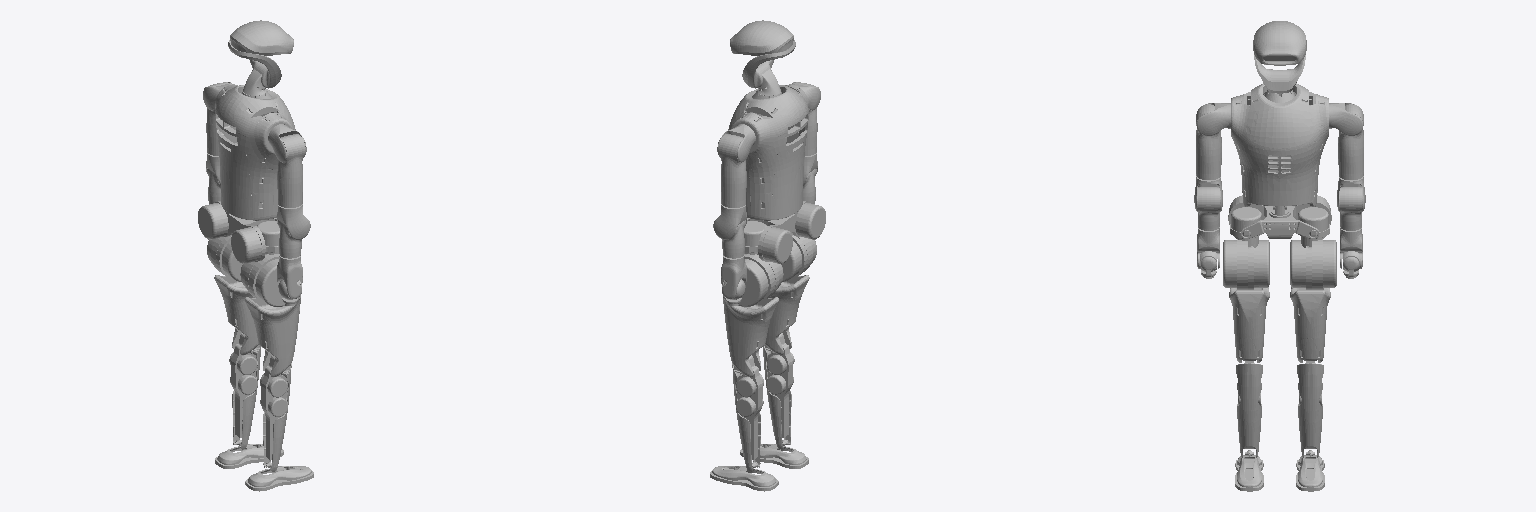
--- Facts derived from the render (not from the file) ---
3 views of the same robot in one strip: view 1: azimuth 30°, elevation 25°; view 2: azimuth 150°, elevation 25°; view 3: azimuth 270°, elevation 25° (orthographic).
Model l3_29dof_neck_fixed_leg_zero_offset_straight with 51 links and 50 joints (29 revolute, 21 fixed), rooted at pelvis, posed all joints at 0.
Visible links, largest first — view 1: torso_base_link, right_hip_pitch_link, neck_pitch_link, right_knee_link, left_knee_link, base_link, left_hip_pitch_link, right_shoulder_roll_link, right_ankle_roll_link, left_ankle_roll_link, right_elbow_yaw_link, right_arm_yaw_link (+3 smaller); view 2: torso_base_link, left_hip_pitch_link, neck_pitch_link, left_knee_link, right_knee_link, base_link, right_hip_pitch_link, left_shoulder_roll_link, left_ankle_roll_link, right_ankle_roll_link, left_elbow_yaw_link, left_arm_yaw_link (+3 smaller); view 3: torso_base_link, left_hip_pitch_link, right_hip_pitch_link, neck_pitch_link, right_knee_link, left_knee_link, base_link, left_shoulder_roll_link, right_shoulder_roll_link, left_hip_yaw_link, right_hip_yaw_link, left_elbow_pitch_link (+9 smaller).
Link boxes in pixels (x1=…): torso_base_link: x1=215, y1=84, x2=295, y2=220; right_hip_pitch_link: x1=245, y1=254, x2=302, y2=376; neck_pitch_link: x1=228, y1=20, x2=293, y2=88; right_knee_link: x1=260, y1=355, x2=291, y2=471; left_knee_link: x1=229, y1=333, x2=260, y2=449; base_link: x1=198, y1=201, x2=276, y2=263; left_hip_pitch_link: x1=207, y1=237, x2=258, y2=354; right_shoulder_roll_link: x1=277, y1=134, x2=305, y2=207; right_ankle_roll_link: x1=245, y1=466, x2=313, y2=491; left_ankle_roll_link: x1=215, y1=444, x2=283, y2=468; right_elbow_yaw_link: x1=277, y1=255, x2=302, y2=298; right_arm_yaw_link: x1=276, y1=204, x2=310, y2=239; torso_base_link: x1=728, y1=84, x2=808, y2=220; left_hip_pitch_link: x1=721, y1=254, x2=778, y2=376; neck_pitch_link: x1=730, y1=20, x2=795, y2=88; left_knee_link: x1=732, y1=355, x2=763, y2=471; right_knee_link: x1=763, y1=333, x2=794, y2=449; base_link: x1=747, y1=201, x2=825, y2=263; right_hip_pitch_link: x1=765, y1=237, x2=816, y2=354; left_shoulder_roll_link: x1=718, y1=134, x2=746, y2=207; left_ankle_roll_link: x1=710, y1=466, x2=778, y2=491; right_ankle_roll_link: x1=740, y1=444, x2=808, y2=468; left_elbow_yaw_link: x1=721, y1=255, x2=746, y2=298; left_arm_yaw_link: x1=713, y1=204, x2=746, y2=239; torso_base_link: x1=1231, y1=83, x2=1328, y2=206; left_hip_pitch_link: x1=1290, y1=239, x2=1336, y2=362; right_hip_pitch_link: x1=1223, y1=239, x2=1269, y2=362; neck_pitch_link: x1=1253, y1=21, x2=1306, y2=92; right_knee_link: x1=1236, y1=361, x2=1262, y2=457; left_knee_link: x1=1297, y1=361, x2=1323, y2=457; base_link: x1=1228, y1=195, x2=1331, y2=238; left_shoulder_roll_link: x1=1338, y1=104, x2=1363, y2=179; right_shoulder_roll_link: x1=1196, y1=104, x2=1221, y2=179; left_hip_yaw_link: x1=1290, y1=236, x2=1325, y2=289; right_hip_yaw_link: x1=1234, y1=236, x2=1269, y2=289; left_elbow_pitch_link: x1=1340, y1=187, x2=1361, y2=230.
Size in the robot's own frame: 0.2958 by 0.59 by 1.7 metres.
48 mesh visuals loaded from 49 distinct referenced files (48 binary STL); not drawn: 1 (reference not matched to a file when rendering).

robot.urdf — l3_29dof_neck_fixed_leg_zero_offset_straight:
<?xml version="1.0" encoding="utf-8"?>

<!-- This URDF was automatically created by SolidWorks to URDF Exporter! Originally created by Stephen Brawner ([email redacted]) 
     Commit Version: 1.6.0-4-g7f85cfe  Build Version: 1.6.7995.38578
     For more information, please see http://wiki.ros.org/sw_urdf_exporter -->
<robot
  name="l3_29dof_neck_fixed_leg_zero_offset_straight">
  <mujoco>
        <compiler 
        meshdir="meshes/" 
        balanceinertia="true" 
        discardvisual="false" />
  </mujoco>

  <!-- <link name="world"></link>
  <joint name="floating_base_joint" type="floating">
    <parent link="world"/>
    <child link="pelvis"/>
  </joint>  -->


 <link name="pelvis">
    <inertial>
      <origin xyz="0 0 0" rpy="0 0 0" />
      <mass value="0.01" />
      <inertia ixx="0.00001" ixy="-0.00001" ixz="-0.00001" iyy="0.00001" iyz="0.00001" izz="0.00001" />
    </inertial>
    <visual>
      <origin xyz="0 0 0" rpy="0 0 0" />
      <geometry>
        <box size="0.01 0.01 0.01"/>
      </geometry>
      <material name="">
        <color rgba="0.75294 0.75294 0.75294 1" />
      </material>
    </visual>

    <collision>
      <origin xyz="-0.105 0.115 -0.079" rpy="0 1.57 0"/>
      <geometry>
        <cylinder radius="0.06" length="0.05"/>
      </geometry>
    </collision>


    <collision>
      <origin xyz="-0.105 -0.115 -0.079" rpy="0 1.57 0"/>
      <geometry>
        <cylinder radius="0.06" length="0.05"/>
      </geometry>
    </collision>

    <!-- <collision>
      <origin
        xyz="0.05 0. -0.06"
        rpy="0 0 0"/>
      <geometry>
        <box size="0.02 0.14 0.04"/>
      </geometry>
    </collision> -->

    <collision>
      <origin
        xyz="0.07 0. -0.06"
        rpy="0 0 0"/>
      <!-- <geometry>
        <box size="0.02 0.20 0.04"/>
      </geometry> -->
      <geometry>
        <box size="0.01 0.26 0.04"/>
      </geometry>
    </collision>
  </link>

  <link
    name="base_link">
    <inertial>
      <origin
        xyz="-0.12443 4.6517E-05 -0.0072396"
        rpy="0 0 0" />
      <mass
        value="4.6837" />
      <inertia
        ixx="0.0662"
        ixy="0"
        ixz="-0.0006"
        iyy="0.0139"
        iyz="0"
        izz="0.071" />
    </inertial>
    <visual>
      <origin
        xyz="0 0 0"
        rpy="0 0 0" />
      <geometry>
        <mesh
          filename="meshes/base_link.STL" />
      </geometry>
      <material
        name="">
        <color
          rgba="0.75294 0.75294 0.75294 1" />
      </material>
    </visual>
    <!-- <collision>
      <origin
        xyz="0 0 0"
        rpy="0 0 0" />
      <geometry>
        <mesh
          filename="meshes/base_link.STL" />
      </geometry>
    </collision> -->
  </link>

  <joint name="pelvis_to_base_link" type="fixed">
    <origin xyz="0.04724 0 -0.0707" rpy="0 0 0" />
    <parent link="pelvis"/>
    <child link="base_link"/>
  </joint> 

 <!--left leg-->
  <link
    name="left_hip_roll_link">
    <inertial>
      <origin
        xyz="-0.00064601 2.7e-05 0.00565143"
        rpy="0 0 0" />
      <mass
        value="1.73" />
      <inertia
        ixx="0.0025037"
        ixy="0"
        ixz="0"
        iyy="0.00256083"
        iyz="0"
        izz="0.000029228131" />
    </inertial>
    <visual>
      <origin
        xyz="0 0 0"
        rpy="0 0 0" />
      <geometry>
        <mesh
          filename="meshes/left_hip_roll_link.STL" />
      </geometry>
      <material
        name="">
        <color
          rgba="0.75294 0.75294 0.75294 1" />
      </material>
    </visual>
    <collision>
      <origin
        xyz="0 0 0"
        rpy="0 0 0" />
      <geometry>
        <mesh
          filename="meshes/left_hip_roll_link.STL" />
      </geometry>
    </collision>
  </link>
  <joint
    name="left_hip_roll_joint"
    type="revolute">
    <origin
      xyz="-0.04724 0.115 -0.0083"
      rpy="0 0 0" />
    <parent
      link="base_link" />
    <child
      link="left_hip_roll_link" />
    <axis
      xyz="1 0 0" />
    <limit
      lower="-0.17"
      upper="1.21"
      effort="255"
      velocity="7.28" />
  </joint>
  <link
    name="left_hip_yaw_link">
    <inertial>
      <origin
        xyz="-0.000331 -0.037613 -0.139711"
        rpy="0 0 0" />
      <mass
        value="4.12" />
      <inertia
        ixx="0.01102885"
        ixy="-0.0001"
        ixz="-3.948E-07"
        iyy="0.01659953"
        iyz="-0.0007"
        izz="0.00922664" />
    </inertial>
    <visual>
      <origin
        xyz="0 0 0"
        rpy="0 0 0" />
      <geometry>
        <mesh
          filename="meshes/left_hip_yaw_link.STL" />
      </geometry>
      <material
        name="">
        <color
          rgba="0.75294 0.75294 0.75294 1" />
      </material>
    </visual>
    <!-- <collision>
      <origin
        xyz="0 0 0"
        rpy="0 0 0" />
      <geometry>
        <mesh
          filename="meshes/left_hip_yaw_link.STL" />
      </geometry>
    </collision> -->
    <collision>
      <origin xyz="0.0 0. -0.144" rpy="1.57 0 0"/>
      <geometry>
        <cylinder radius="0.09" length="0.16"/>
      </geometry>
    </collision>
  </link>
  <joint
    name="left_hip_yaw_joint"
    type="revolute">
    <origin
      xyz="0 0 0"
      rpy="0 0 0" />
    <parent
      link="left_hip_roll_link" />
    <child
      link="left_hip_yaw_link" />
    <axis
      xyz="0 0 1" />
    <limit
      lower="-0.52"
      upper="1.03"
      effort="100"
      velocity="13.26" />
  </joint>
  <link
    name="left_hip_pitch_link">
    <inertial>
      <origin
        xyz="0.00124255 0.03682619 -0.04354149"
        rpy="0 0 0" />
      <mass
        value="5.28" />
      <inertia
        ixx="0.06033474"
        ixy="0.0005"
        ixz="0.0032"
        iyy="0.06489403"
        iyz="-0.0083"
        izz="0.01283269" />
    </inertial>
    <visual>
      <origin
        xyz="0 0 0"
        rpy="0 0 0" />
      <geometry>
        <mesh
          filename="meshes/left_hip_pitch_link.STL" />
      </geometry>
      <material
        name="">
        <color
          rgba="0.75294 0.75294 0.75294 1" />
      </material>
    </visual>
    <!-- <collision>
      <origin
        xyz="0 0 0"
        rpy="0 0 0" />
      <geometry>
        <mesh
          filename="meshes/left_hip_pitch_link.STL" />
      </geometry>
    </collision> -->
    <collision>
      <origin
        xyz="0.02 0. -0.20"
        rpy="0 0 0"/>
      <geometry>
        <box size="0.1 0.06 0.15"/>
      </geometry>
    </collision>
  </link>
  <!-- <joint
    name="left_hip_pitch_joint"
    type="revolute">
    <origin
      xyz="0 0 -0.144"
      rpy="0 -0.5236 0" />
    <parent
      link="left_hip_yaw_link" />
    <child
      link="left_hip_pitch_link" />
    <axis
      xyz="0 1 0" />

    <limit
      lower="-1.48"
      upper="2.25"
      effort="350.0"
      velocity="20.0" />


  </joint> -->
  <joint
    name="left_hip_pitch_joint"
    type="revolute">
    <origin
      xyz="0 0 -0.144"
      rpy="0 0 0" />
    <parent
      link="left_hip_yaw_link" />
    <child
      link="left_hip_pitch_link" />
    <axis
      xyz="0 1 0" />
    <limit
      lower="-2.0036"
      upper="1.7464"
      effort="350.0"
      velocity="20.0" />
  </joint>

  <link
    name="left_knee_link">
    <inertial>
      <origin
        xyz="0.01253496 0.00011441 -0.11698312"
        rpy="0 0 0" />
      <mass
        value="2.41" />
      <inertia
        ixx="0.02084403"
        ixy="-3.7298E-08"
        ixz="-0.0015"
        iyy="0.0210412"
        iyz="-0.0003"
        izz="0.00243826" />
    </inertial>
    <visual>
      <origin
        xyz="0 0 0"
        rpy="0 0 0" />
      <geometry>
        <mesh
          filename="meshes/left_knee_link.STL" />
      </geometry>
      <material
        name="">
        <color
          rgba="0.75294 0.75294 0.75294 1" />
      </material>
    </visual>
    <collision>
      <origin
        xyz="0 0 0"
        rpy="0 0 0" />
      <geometry>
        <mesh
          filename="meshes/left_knee_link.STL" />
      </geometry>
    </collision>
  </link>
  <!-- <joint
    name="left_knee_joint"
    type="revolute">
    <origin
      xyz="0 -0.01 -0.36"
      rpy="0 1.0472 0" />
    <parent
      link="left_hip_pitch_link" />
    <child
      link="left_knee_link" />
    <axis
      xyz="0 1 0" />

    <limit
      lower="-1.0"
      upper="1.05"
      effort="350.0"
      velocity="20.0" />
  </joint> -->
  <joint
    name="left_knee_joint"
    type="revolute">
    <origin
      xyz="0 -0.01 -0.36"
      rpy="0 0 0" />
    <parent
      link="left_hip_pitch_link" />
    <child
      link="left_knee_link" />
    <axis
      xyz="0 1 0" />
    <limit
      lower="-0.0028"
      upper="2.0972"
      effort="350.0"
      velocity="20.0" />
  </joint>  

  <link
    name="left_ankle_pitch_link">
    <inertial>
      <origin
        xyz="-0.00156278 0.0 4.876e-05"
        rpy="0 0 0" />
      <mass
        value="0.08" />
      <inertia
        ixx="6.4137e-06"
        ixy="6.4247E-12"
        ixz="5.1426E-09"
        iyy="5.5064e-06"
        iyz="8.537E-13"
        izz="4.8112e-06" />
    </inertial>
    <visual>
      <origin
        xyz="0 0 0"
        rpy="0 0 0" />
      <geometry>
        <mesh
          filename="meshes/left_ankle_pitch_link.STL" />
      </geometry>
      <material
        name="">
        <color
          rgba="0.75294 0.75294 0.75294 1" />
      </material>
    </visual>
    <!-- <collision>
      <origin
        xyz="0 0 0"
        rpy="0 0 0" />
      <geometry>
        <mesh
          filename="meshes/left_ankle_pitch_link.STL" />
      </geometry>
    </collision> -->
  </link>
  <!-- <joint
    name="left_ankle_pitch_joint"
    type="revolute">
    <origin
      xyz="0 0 -0.36"
      rpy="0 -0.5236 0" />
    <parent
      link="left_knee_link" />
    <child
      link="left_ankle_pitch_link" />
    <axis
      xyz="0 1 0" />
    <limit
      lower="-0.66"
      upper="1.22"
      effort="50.0"
      velocity="13.65" />
  </joint> -->
  <joint
    name="left_ankle_pitch_joint"
    type="revolute">
    <origin
      xyz="0 0 -0.36"
      rpy="0 0 0" />
    <parent
      link="left_knee_link" />
    <child
      link="left_ankle_pitch_link" />
    <axis
      xyz="0 1 0" />
    <limit
      lower="-1.1836"
      upper="0.6964"
      effort="50.0"
      velocity="13.65" />
  </joint>  
  <link
    name="left_ankle_roll_link">
    <inertial>
      <origin
        xyz="0.025775 0.0 -0.0447431"
        rpy="0 0 0" />
      <mass
        value="0.6" />
      <inertia
        ixx="0.00422483"
        ixy="7.2942E-08"
        ixz="0.0002"
        iyy="0.004"
        iyz="3.08E-09"
        izz="0.000575171" />
    </inertial>
    <visual>
      <origin
        xyz="0 0 0"
        rpy="0 0 0" />
      <geometry>
        <mesh
          filename="meshes/left_ankle_roll_link.STL" />
      </geometry>
      <material
        name="">
        <color
          rgba="0.75294 0.75294 0.75294 1" />
      </material>
    </visual>
    <!-- <collision>
      <origin
        xyz="0 0 0"
        rpy="0 0 0" />
      <geometry>
        <mesh
          filename="meshes/left_ankle_roll_link.STL" />
      </geometry>
    </collision> -->
    <collision>
      <origin xyz="-0.06 0.035 -0.064" rpy="0 0 0"/>
      <geometry>
        <sphere radius="0.005"/>
      </geometry>
    </collision>
    <collision>
      <origin xyz="-0.06 -0.035 -0.064" rpy="0 0 0"/>
      <geometry>
        <sphere radius="0.005"/>
      </geometry>
    </collision>
    <collision>
      <origin xyz="0.13 0.040 -0.064" rpy="0 0 0"/>
      <geometry>
        <sphere radius="0.005"/>
      </geometry>
    </collision>
    <collision>
      <origin xyz="0.13 -0.040 -0.064" rpy="0 0 0"/>
      <geometry>
        <sphere radius="0.005"/>
      </geometry>
    </collision>
  </link>
  <joint
    name="left_ankle_roll_joint"
    type="revolute">
    <origin
      xyz="0 0 0"
      rpy="0 0 0" />
    <parent
      link="left_ankle_pitch_link" />
    <child
      link="left_ankle_roll_link" />
    <axis
      xyz="1 0 0" />
    <limit
      lower="-0.31"
      upper="0.31"
      effort="50.0"
      velocity="13.65" />
  </joint>
  <link
    name="left_foot_ee_link">
    <inertial>
      <origin
        xyz="-2.6368E-16 0 0.0025"
        rpy="0 0 0" />
      <mass
        value="1.375E-08" />
      <inertia
        ixx="5.7292E-14"
        ixy="-4.5517E-30"
        ixz="-4.4864E-28"
        iyy="5.7292E-14"
        iyz="-3.7706E-29"
        izz="5.7292E-14" />
    </inertial>
    <visual>
      <origin
        xyz="0 0 0"
        rpy="0 0 0" />
      <geometry>
        <mesh
          filename="meshes/left_foot_ee_link.STL" />
      </geometry>
      <material
        name="">
        <color
          rgba="1 0.54902 0 1" />
      </material>
    </visual>
    <!-- <collision>
      <origin
        xyz="0 0 0"
        rpy="0 0 0" />
      <geometry>
        <mesh
          filename="meshes/left_foot_ee_link.STL" />
      </geometry>
    </collision> -->
  </link>
  <joint
    name="left_foot_ee_joint"
    type="fixed">
    <origin
      xyz="0 0 -0.0679999999999948"
      rpy="0 0 0" />
    <parent
      link="left_ankle_roll_link" />
    <child
      link="left_foot_ee_link" />
    <axis
      xyz="0 0 1" />
    <limit
      lower="0"
      upper="0"
      effort="0"
      velocity="0" />
  </joint>


<!--right leg-->
  <link
    name="right_hip_roll_link">
    <inertial>
      <origin
        xyz="-0.00164028 8.729e-05 0.00500482"
        rpy="0 0 0" />
      <mass
        value="1.73" />
      <inertia
        ixx="0.00310048"
        ixy="0"
        ixz="0"
        iyy="0.0024"
        iyz="0"
        izz="0.00229952" />
    </inertial>
    <visual>
      <origin
        xyz="0 0 0"
        rpy="0 0 0" />
      <geometry>
        <mesh
          filename="meshes/right_hip_roll_link.STL" />
      </geometry>
      <material
        name="">
        <color
          rgba="0.75294 0.75294 0.75294 1" />
      </material>
    </visual>
    <collision>
      <origin
        xyz="0 0 0"
        rpy="0 0 0" />
      <geometry>
        <mesh
          filename="meshes/right_hip_roll_link.STL" />
      </geometry>
    </collision>
  </link>
  <joint
    name="right_hip_roll_joint"
    type="revolute">
    <origin
      xyz="-0.04724 -0.115 -0.0083"
      rpy="0 0 0" />
    <parent
      link="base_link" />
    <child
      link="right_hip_roll_link" />
    <axis
      xyz="1 0 0" />
    <limit
      lower="-1.21"
      upper="0.17"
      effort="255"
      velocity="7.28" />
  </joint>
  <link
    name="right_hip_yaw_link">
    <inertial>
      <origin
        xyz="0.00033106 0.0376129 -0.139711"
        rpy="0 0 0" />
      <mass
        value="4.12" />
      <inertia
        ixx="0.0163666"
        ixy="-0.0001"
        ixz="3.948E-07"
        iyy="0.0107982"
        iyz="0.0007"
        izz="0.00873522" />
    </inertial>
    <visual>
      <origin
        xyz="0 0 0"
        rpy="0 0 0" />
      <geometry>
        <mesh
          filename="meshes/right_hip_yaw_link.STL" />
      </geometry>
      <material
        name="">
        <color
          rgba="0.75294 0.75294 0.75294 1" />
      </material>
    </visual>
    <!-- <collision>
      <origin
        xyz="0 0 0"
        rpy="0 0 0" />
      <geometry>
        <mesh
          filename="meshes/right_hip_yaw_link.STL" />
      </geometry>
    </collision> -->
    <collision>
      <origin xyz="0.0 0. -0.144" rpy="1.57 0 0"/>
      <geometry>
        <cylinder radius="0.09" length="0.16"/>
      </geometry>
    </collision>
  </link>
  <joint
    name="right_hip_yaw_joint"
    type="revolute">
    <origin
      xyz="0 0 0"
      rpy="0 0 0" />
    <parent
      link="right_hip_roll_link" />
    <child
      link="right_hip_yaw_link" />
    <axis
      xyz="0 0 1" />
    <limit
      lower="-1.03"
      upper="0.52"
      effort="100"
      velocity="13.26" />
  </joint>
  <link
    name="right_hip_pitch_link">
    <inertial>
      <origin
        xyz="0.00124255 -0.03682619 -0.04354149"
        rpy="0 0 0" />
      <mass
        value="5.28" />
      <inertia
        ixx="0.06033474"
        ixy="-0.0006"
        ixz="0.0041"
        iyy="0.06489403"
        iyz="0.0081"
        izz="0.01283269" />
    </inertial>
    <visual>
      <origin
        xyz="0 0 0"
        rpy="0 0 0" />
      <geometry>
        <mesh
          filename="meshes/right_hip_pitch_link.STL" />
      </geometry>
      <material
        name="">
        <color
          rgba="0.75294 0.75294 0.75294 1" />
      </material>
    </visual>
    <!-- <collision>
      <origin
        xyz="0 0 0"
        rpy="0 0 0" />
      <geometry>
        <mesh
          filename="meshes/right_hip_pitch_link.STL" />
      </geometry>
    </collision> -->

    <collision>
      <origin
        xyz="0.02 0. -0.20"
        rpy="0 0 0"/>
      <geometry>
        <box size="0.1 0.06 0.15"/>
      </geometry>
    </collision>


  </link>
  <!-- <joint
    name="right_hip_pitch_joint"
    type="revolute">
    <origin
      xyz="0 0 -0.144"
      rpy="0 -0.5236 0" />
    <parent
      link="right_hip_yaw_link" />
    <child
      link="right_hip_pitch_link" />
    <axis
      xyz="0 1 0" />

    <limit
      lower="-1.48"
      upper="2.25"
      effort="350.0"
      velocity="20.0" />
  </joint> -->
  <joint
    name="right_hip_pitch_joint"
    type="revolute">
    <origin
      xyz="0 0 -0.144"
      rpy="0 0.0 0" />
    <parent
      link="right_hip_yaw_link" />
    <child
      link="right_hip_pitch_link" />
    <axis
      xyz="0 1 0" />
    <limit
      lower="-2.0036"
      upper="1.7464"
      effort="350.0"
      velocity="20.0" />
  </joint>  
  <link
    name="right_knee_link">
    <inertial>
      <origin
        xyz="0.01253496 -0.00011441 -0.11698312"
        rpy="0 0 0" />
      <mass
        value="2.41" />
      <inertia
        ixx="0.02084403"
        ixy="0"
        ixz="-0.0015"
        iyy="0.0210412"
        iyz="0.0003"
        izz="0.00243826" />
    </inertial>
    <visual>
      <origin
        xyz="0 0 0"
        rpy="0 0 0" />
      <geometry>
        <mesh
          filename="meshes/right_knee_link.STL" />
      </geometry>
      <material
        name="">
        <color
          rgba="0.75294 0.75294 0.75294 1" />
      </material>
    </visual>
    <collision>
      <origin
        xyz="0 0 0"
        rpy="0 0 0" />
      <geometry>
        <mesh
          filename="meshes/right_knee_link.STL" />
      </geometry>
    </collision>
  </link>
  <!-- <joint
    name="right_knee_joint"
    type="revolute">
    <origin
      xyz="0 0.01 -0.36"
      rpy="0 1.0472 0" />
    <parent
      link="right_hip_pitch_link" />
    <child
      link="right_knee_link" />
    <axis
      xyz="0 1 0" />

    <limit
      lower="-1.0"
      upper="1.05"
      effort="350"
      velocity="20.0" />
  </joint> -->
  <joint
    name="right_knee_joint"
    type="revolute">
    <origin
      xyz="0 0.01 -0.36"
      rpy="0 0 0" />
    <parent
      link="right_hip_pitch_link" />
    <child
      link="right_knee_link" />
    <axis
      xyz="0 1 0" />
    <limit
      lower="-0.0028"
      upper="2.0972"
      effort="350"
      velocity="20.0" />
  </joint>  
  <link
    name="right_ankle_pitch_link">
    <inertial>
      <origin
        xyz="-0.00156278 0.0 4.876e-05"
        rpy="0 0 0" />
      <mass
        value="0.08" />
      <inertia
        ixx="6.4137e-06"
        ixy="6.4247E-12"
        ixz="5.1426E-09"
        iyy="5.5064e-06"
        iyz="8.537E-13"
        izz="4.8112e-06" />
    </inertial>
    <visual>
      <origin
        xyz="0 0 0"
        rpy="0 0 0" />
      <geometry>
        <mesh
          filename="meshes/right_ankle_pitch_link.STL" />
      </geometry>
      <material
        name="">
        <color
          rgba="0.75294 0.75294 0.75294 1" />
      </material>
    </visual>
    <!-- <collision>
      <origin
        xyz="0 0 0"
        rpy="0 0 0" />
      <geometry>
        <mesh
          filename="meshes/right_ankle_pitch_link.STL" />
      </geometry>
    </collision> -->
  </link>
  <!-- <joint
    name="right_ankle_pitch_joint"
    type="revolute">
    <origin
      xyz="0 0 -0.36"
      rpy="0 -0.5236 0" />
    <parent
      link="right_knee_link" />
    <child
      link="right_ankle_pitch_link" />
    <axis
      xyz="0 1 0" />
    <limit
      lower="-0.66"
      upper="1.22"
      effort="50.0"
      velocity="13.65" />
  </joint> -->
  <joint
    name="right_ankle_pitch_joint"
    type="revolute">
    <origin
      xyz="0 0 -0.36"
      rpy="0 0 0" />
    <parent
      link="right_knee_link" />
    <child
      link="right_ankle_pitch_link" />
    <axis
      xyz="0 1 0" />
    <limit
      lower="-1.1836"
      upper="0.6964"
      effort="50.0"
      velocity="13.65" />
  </joint>  
  <link
    name="right_ankle_roll_link">
    <inertial>
      <origin
        xyz="0.025775 0.0 -0.0447431"
        rpy="0 0 0" />
      <mass
        value="0.6" />
      <inertia
        ixx="0.00422483"
        ixy="7.3006E-08"
        ixz="-3.7284E-05"
        iyy="0.004"
        iyz="3.0727E-09"
        izz="0.000575171" />
    </inertial>
    <visual>
      <origin
        xyz="0 0 0"
        rpy="0 0 0" />
      <geometry>
        <mesh
          filename="meshes/right_ankle_roll_link.STL" />
      </geometry>
      <material
        name="">
        <color
          rgba="0.75294 0.75294 0.75294 1" />
      </material>
    </visual>
    <!-- <collision>
      <origin
        xyz="0 0 0"
        rpy="0 0 0" />
      <geometry>
        <mesh
          filename="meshes/right_ankle_roll_link.STL" />
      </geometry>
    </collision> -->
    <collision>
      <origin xyz="-0.06 0.035 -0.064" rpy="0 0 0"/>
      <geometry>
        <sphere radius="0.005"/>
      </geometry>
    </collision>
    <collision>
      <origin xyz="-0.06 -0.035 -0.064" rpy="0 0 0"/>
      <geometry>
        <sphere radius="0.005"/>
      </geometry>
    </collision>
    <collision>
      <origin xyz="0.13 0.040 -0.064" rpy="0 0 0"/>
      <geometry>
        <sphere radius="0.005"/>
      </geometry>
    </collision>
    <collision>
      <origin xyz="0.13 -0.040 -0.064" rpy="0 0 0"/>
      <geometry>
        <sphere radius="0.005"/>
      </geometry>
    </collision> 
  </link>
  <joint
    name="right_ankle_roll_joint"
    type="revolute">
    <origin
      xyz="0 0 0"
      rpy="0 0 0" />
    <parent
      link="right_ankle_pitch_link" />
    <child
      link="right_ankle_roll_link" />
    <axis
      xyz="1 0 0" />
    <limit
      lower="-0.31"
      upper="0.31"
      effort="50.0"
      velocity="13.65" />
  </joint>
  <link
    name="right_foot_ee_link">
    <inertial>
      <origin
        xyz="-2.7756E-16 0 0.0025"
        rpy="0 0 0" />
      <mass
        value="1.375E-08" />
      <inertia
        ixx="5.7292E-14"
        ixy="-4.4099E-31"
        ixz="-4.4858E-28"
        iyy="5.7292E-14"
        iyz="-2.8029E-29"
        izz="5.7292E-14" />
    </inertial>
    <visual>
      <origin
        xyz="0 0 0"
        rpy="0 0 0" />
      <geometry>
        <mesh
          filename="meshes/right_foot_ee_link.STL" />
      </geometry>
      <material
        name="">
        <color
          rgba="1 0.54902 0 1" />
      </material>
    </visual>
    <!-- <collision>
      <origin
        xyz="0 0 0"
        rpy="0 0 0" />
      <geometry>
        <mesh
          filename="meshes/right_foot_ee_link.STL" />
      </geometry>
    </collision> -->
  </link>
  <joint
    name="right_foot_ee_joint"
    type="fixed">
    <origin
      xyz="0 0 -0.068"
      rpy="0 0 0" />
    <parent
      link="right_ankle_roll_link" />
    <child
      link="right_foot_ee_link" />
    <axis
      xyz="0 0 0" />
  </joint>

<!--   waist part    -->
  <link
    name="waist_flange_link">
    <inertial>
      <origin
        xyz="0 -3.4487E-18 0.0025"
        rpy="0 0 0" />
      <mass
        value="1.375E-08" />
      <inertia
        ixx="5.7292E-14"
        ixy="2.6168E-30"
        ixz="-3.9998E-31"
        iyy="5.7292E-14"
        iyz="-1.2292E-30"
        izz="5.7292E-14" />
    </inertial>
    <visual>
      <origin
        xyz="0 0 0"
        rpy="0 0 0" />
      <geometry>
        <mesh
          filename="meshes/waist_flange_link.STL" />
      </geometry>
      <material
        name="">
        <color
          rgba="1 0.54902 0 1" />
      </material>
    </visual>
    <!-- <collision>
      <origin
        xyz="0 0 0"
        rpy="0 0 0" />
      <geometry>
        <mesh
          filename="meshes/waist_flange_link.STL" />
      </geometry>
    </collision> -->
  </link>
  <joint
    name="waist_flange_joint"
    type="fixed">
    <origin
      xyz="-0.04724 0 0.0367"
      rpy="0 0 0" />
    <parent
      link="base_link" />
    <child
      link="waist_flange_link" />
    <axis
      xyz="0 0 0" />
  </joint>

  <joint
    name="waist_base_joint"
    type="fixed">
    <origin
      xyz="0 0 0"
      rpy="0 0 0" />
    <parent
      link="waist_flange_link" />
    <child
      link="waist_base_link" />
    <axis
      xyz="0 0 1" />
    <limit
      lower="0"
      upper="0"
      effort="0"
      velocity="0" />
  </joint>
<link
    name="waist_base_link">
    <inertial>
      <origin
        xyz="-0.00090253 -3.8886E-05 -0.022326"
        rpy="0 0 0" />
      <mass
        value="1.0597" />
      <inertia
        ixx="0.0011"
        ixy="7.3313E-07"
        ixz="6.9671E-07"
        iyy="0.0011"
        iyz="1.5872E-06"
        izz="0.0013" />
    </inertial>
    <visual>
      <origin
        xyz="0 0 0"
        rpy="0 0 0" />
      <geometry>
        <mesh
          filename="meshes/waist_base_link.STL" />
      </geometry>
      <material
        name="">
        <color
          rgba="0.75294 0.75294 0.75294 1" />
      </material>
    </visual>
    <!-- <collision>
      <origin
        xyz="0 0 0"
        rpy="0 0 0" />
      <geometry>
        <mesh
          filename="meshes/waist_base_link.STL" />
      </geometry>
    </collision> -->
  </link>
  <link
    name="waist_yaw_link">
    <inertial>
      <origin
        xyz="0.0090574 2.5517E-09 -0.018735"
        rpy="0 0 0" />
      <mass
        value="0.20427" />
      <inertia
        ixx="0.0001"
        ixy="9.2093E-11"
        ixz="5.1666E-07"
        iyy="0.0001"
        iyz="-7.1818E-11"
        izz="0.0001" />
    </inertial>
    <visual>
      <origin
        xyz="0 0 0"
        rpy="0 0 0" />
      <geometry>
        <mesh
          filename="meshes/waist_yaw_link.STL" />
      </geometry>
      <material
        name="">
        <color
          rgba="0.75294 0.75294 0.75294 1" />
      </material>
    </visual>
    <!-- <collision>
      <origin
        xyz="0 0 0"
        rpy="0 0 0" />
      <geometry>
        <mesh
          filename="meshes/waist_yaw_link.STL" />
      </geometry>
    </collision> -->
  </link>
  <joint
    name="waist_yaw_joint"
    type="revolute">
    <origin
      xyz="0 0 0.034"
      rpy="0 0 0" />
    <parent
      link="waist_base_link" />
    <child
      link="waist_yaw_link" />
    <axis
      xyz="0 0 1" />
    <limit
      lower="-1.57"
      upper="1.57"
      effort="110"
      velocity="4.19" />
  </joint>
  <link
    name="waist_roll_link">
    <inertial>
      <origin
        xyz="-3.1889E-09 -3.1609E-09 -4.8745E-05"
        rpy="0 0 0" />
      <mass
        value="0.083945" />
      <inertia
        ixx="6.4218E-06"
        ixy="7.6098E-14"
        ixz="-1.8377E-12"
        iyy="6.968E-06"
        iyz="7.7458E-13"
        izz="1.1249E-05" />
    </inertial>
    <visual>
      <origin
        xyz="0 0 0"
        rpy="0 0 0" />
      <geometry>
        <mesh
          filename="meshes/waist_roll_link.STL" />
      </geometry>
      <material
        name="">
        <color
          rgba="0.75294 0.75294 0.75294 1" />
      </material>
    </visual>
    <!-- <collision>
      <origin
        xyz="0 0 0"
        rpy="0 0 0" />
      <geometry>
        <mesh
          filename="meshes/waist_roll_link.STL" />
      </geometry>
    </collision> -->
  </link>
  <joint
    name="waist_roll_joint"
    type="revolute">
    <origin
      xyz="0 0 0"
      rpy="0 0 0" />
    <parent
      link="waist_yaw_link" />
    <child
      link="waist_roll_link" />
    <axis
      xyz="1 0 0" />
    <limit
      lower="-0.26"
      upper="0.26"
      effort="110"
      velocity="4.19" />
  </joint>


 <link name="torso_link">
    <inertial>
      <origin xyz="0 0 0" rpy="0 0 0" />
      <mass value="0.01" />
      <inertia ixx="0.00001" ixy="-0.00001" ixz="-0.00001" iyy="0.00001" iyz="0.00001" izz="0.00001" />
    </inertial>
    <visual>
      <origin xyz="0 0 0" rpy="0 0 0" />
      <geometry>
        <box size="0.01 0.01 0.01"/>
      </geometry>
      <material name="">
        <color rgba="0.75294 0.75294 0.75294 1" />
      </material>
    </visual>
    <!-- <collision>
      <origin
        xyz="0.0 0. 0.215"
        rpy="0 0 0" />
      <geometry>
        <box size="0.2 0.26 0.34"/>
      </geometry>
    </collision> -->
  </link>

  <joint
    name="waist_pitch_joint"
    type="revolute">
    <origin
      xyz="0 0 0"
      rpy="0 0 0" />
    <parent
      link="waist_roll_link" />
    <child
      link="torso_link" />
    <axis
      xyz="0 1 0" />
    <limit
      lower="-0.09"
      upper="1.22"
      effort="110"
      velocity="4.19" />
  </joint>

  <link
    name="waist_pitch_link">
    <inertial>
      <origin
        xyz="-0.0006119 7.6707E-09 0.049479"
        rpy="0 0 0" />
      <mass
        value="2.42" />
      <inertia
        ixx="0.0094"
        ixy="-2.2462E-06"
        ixz="0.0001"
        iyy="0.0023"
        iyz="-1.2998E-06"
        izz="0.0094" />
    </inertial>
    <visual>
      <origin
        xyz="0 0 0"
        rpy="0 0 0" />
      <geometry>
        <mesh
          filename="meshes/waist_pitch_link.STL" />
      </geometry>
      <material
        name="">
        <color
          rgba="0.75294 0.75294 0.75294 1" />
      </material>
    </visual>
    <!-- <collision>
      <origin
        xyz="0 0 0"
        rpy="0 0 0" />
      <geometry>
        <mesh
          filename="meshes/waist_pitch_link.STL" />
      </geometry>
    </collision> -->
  </link>

  <joint
    name="torso_fixed_joint"
    type="fixed">
    <origin
      xyz="0 0 0.0"
      rpy="0 0 0" />
    <parent
      link="torso_link" />
    <child
      link="waist_pitch_link" />
    <axis
      xyz="0 0 0" />
  </joint>



  <link
    name="torso_flange_link">
    <inertial>
      <origin
        xyz="1.687E-05 -3.5059E-18 0.0025"
        rpy="0 0 0" />
      <mass
        value="1.375E-08" />
      <inertia
        ixx="5.7292E-14"
        ixy="-3.9075E-30"
        ixz="5.6717E-30"
        iyy="5.7292E-14"
        iyz="7.282E-30"
        izz="5.7292E-14" />
    </inertial>
    <visual>
      <origin
        xyz="0 0 0"
        rpy="0 0 0" />
      <geometry>
        <mesh
          filename="meshes/torso_flange_link.STL" />
      </geometry>
      <material
        name="">
        <color
          rgba="1 0.54902 0 1" />
      </material>
    </visual>
    <!-- <collision>
      <origin
        xyz="0 0 0"
        rpy="0 0 0" />
      <geometry>
        <mesh
          filename="meshes/torso_flange_link.STL" />
      </geometry>
    </collision> -->
  </link>
  <joint
    name="torso_flange_joint"
    type="fixed">
    <origin
      xyz="0 0 0.095"
      rpy="0 0 0" />
    <parent
      link="waist_pitch_link" />
    <child
      link="torso_flange_link" />
    <axis
      xyz="0 0 0" />
  </joint>

<!--   torso part    --> 

  <joint
    name="torso_base_joint"
    type="fixed">
    <origin
      xyz="0 0 0"
      rpy="0 0 0" />
    <parent
      link="torso_flange_link" />
    <child
      link="torso_base_link" />
    <axis
      xyz="0 0 1" />
    <limit
      lower="0"
      upper="0"
      effort="0"
      velocity="0" />
  </joint>
  <link
    name="torso_base_link">
    <inertial>
      <origin
        xyz="-0.0081721 -0.00032449 0.13822"
        rpy="0 0 0" />
      <mass
        value="10.42" />
      <inertia
        ixx="0.1209"
        ixy="-0.0001"
        ixz="0.0102"
        iyy="0.1048"
        iyz="0.0004"
        izz="0.0665" />
    </inertial>
    <visual>
      <origin
        xyz="0 0 0"
        rpy="0 0 0" />
      <geometry>
        <mesh
          filename="meshes/torso_base_link.STL" />
      </geometry>
      <material
        name="">
        <color
          rgba="0.75294 0.75294 0.75294 1" />
      </material>
    </visual>
    <collision>
      <origin
        xyz="0 0 0"
        rpy="0 0 0" />
      <geometry>
        <mesh
          filename="meshes/torso_base_link.STL" />
      </geometry>
    </collision>
  </link>
  <link
    name="neck_flange_link">
    <inertial>
      <origin
        xyz="-8.6736E-19 -3.5017E-18 0.0025"
        rpy="0 0 0" />
      <mass
        value="1.375E-08" />
      <inertia
        ixx="5.7292E-14"
        ixy="-2.8571E-30"
        ixz="5.6547E-30"
        iyy="5.7292E-14"
        iyz="-5.801E-31"
        izz="5.7292E-14" />
    </inertial>
    <visual>
      <origin
        xyz="0 0 0"
        rpy="0 0 0" />
      <geometry>
        <mesh
          filename="meshes/neck_flange_link.STL" />
      </geometry>
      <material
        name="">
        <color
          rgba="1 0.54902 0 1" />
      </material>
    </visual>
    <!-- <collision>
      <origin
        xyz="0 0 0"
        rpy="0 0 0" />
      <geometry>
        <mesh
          filename="meshes/neck_flange_link.STL" />
      </geometry>
    </collision> -->
  </link>
  <joint
    name="neck_flange_joint"
    type="fixed">
    <origin
      xyz="0 0 0.303"
      rpy="0 0 0" />
    <parent
      link="torso_base_link" />
    <child
      link="neck_flange_link" />
    <axis
      xyz="0 0 0" />
  </joint>
  <link
    name="left_arm_flange_link">
    <inertial>
      <origin
        xyz="-5.152E-18 -2.7756E-17 0.0025"
        rpy="0 0 0" />
      <mass
        value="1.375E-08" />
      <inertia
        ixx="5.7292E-14"
        ixy="3.113E-30"
        ixz="-7.9572E-30"
        iyy="5.7292E-14"
        iyz="-4.7132E-29"
        izz="5.7292E-14" />
    </inertial>
    <visual>
      <origin
        xyz="0 0 0"
        rpy="0 0 0" />
      <geometry>
        <mesh
          filename="meshes/left_arm_flange_link.STL" />
      </geometry>
      <material
        name="">
        <color
          rgba="1 0.54902 0 1" />
      </material>
    </visual>
    <!-- <collision>
      <origin
        xyz="0 0 0"
        rpy="0 0 0" />
      <geometry>
        <mesh
          filename="meshes/left_arm_flange_link.STL" />
      </geometry>
    </collision> -->
  </link>
  <joint
    name="left_arm_flange_joint"
    type="fixed">
    <origin
      xyz="0 0.112 0.243"
      rpy="0 0 0" />
    <parent
      link="torso_base_link" />
    <child
      link="left_arm_flange_link" />
    <axis
      xyz="0 0 0" />
  </joint>
  <link
    name="right_arm_flange_link">
    <inertial>
      <origin
        xyz="-1.847E-18 -1.3878E-17 0.0025"
        rpy="0 0 0" />
      <mass
        value="1.375E-08" />
      <inertia
        ixx="5.7292E-14"
        ixy="-1.6617E-30"
        ixz="-4.4962E-30"
        iyy="5.7292E-14"
        iyz="-2.525E-30"
        izz="5.7292E-14" />
    </inertial>
    <visual>
      <origin
        xyz="0 0 0"
        rpy="0 0 0" />
      <geometry>
        <mesh
          filename="meshes/right_arm_flange_link.STL" />
      </geometry>
      <material
        name="">
        <color
          rgba="1 0.54902 0 1" />
      </material>
    </visual>
    <!-- <collision>
      <origin
        xyz="0 0 0"
        rpy="0 0 0" />
      <geometry>
        <mesh
          filename="meshes/right_arm_flange_link.STL" />
      </geometry>
    </collision> -->
  </link>
  <joint
    name="right_arm_flange_joint"
    type="fixed">
    <origin
      xyz="0 -0.112 0.243"
      rpy="0 0 0" />
    <parent
      link="torso_base_link" />
    <child
      link="right_arm_flange_link" />
    <axis
      xyz="0 0 0" />
  </joint>



  <!--   left_arm part    -->
  <joint
    name="left_arm_base_joint"
    type="fixed">
    <origin
      xyz="0 0 0"
      rpy="0 0 0" />
    <parent
      link="left_arm_flange_link" />
    <child
      link="left_arm_base_link" />
    <axis
      xyz="0 0 1" />
    <limit
      lower="0"
      upper="0"
      effort="0"
      velocity="0" />
  </joint>
   <link
    name="left_arm_base_link">
    <inertial>
      <origin
        xyz="4.1581E-05 0.023631 3.5535E-05"
        rpy="0 0 0" />
      <mass
        value="0.99112" />
      <inertia
        ixx="0.000802"
        ixy="1E-06"
        ixz="-1E-06"
        iyy="0.000861"
        iyz="-3E-06"
        izz="0.000807" />
    </inertial>
    <visual>
      <origin
        xyz="0 0 0"
        rpy="0 0 0" />
      <geometry>
        <mesh
          filename="meshes/left_arm_base_link.STL" />
      </geometry>
      <material
        name="">
        <color
          rgba="0.75294 0.75294 0.75294 1" />
      </material>
    </visual>
    <!-- <collision>
      <origin
        xyz="0 0 0"
        rpy="0 0 0" />
      <geometry>
        <mesh
          filename="meshes/left_arm_base_link.STL" />
      </geometry>
    </collision> -->
  </link>
  <link
    name="left_shoulder_pitch_link">
    <inertial>
      <origin
        xyz="0.00013365 0.10261 -0.0035426"
        rpy="0 0 0" />
      <mass
        value="0.46431" />
      <inertia
        ixx="0.000868"
        ixy="7.2517E-07"
        ixz="-7.5289E-07"
        iyy="0.000868"
        iyz="0.000137"
        izz="0.001185" />
    </inertial>
    <visual>
      <origin
        xyz="0 0 0"
        rpy="0 0 0" />
      <geometry>
        <mesh
          filename="meshes/left_shoulder_pitch_link.STL" />
      </geometry>
      <material
        name="">
        <color
          rgba="0.75294 0.75294 0.75294 1" />
      </material>
    </visual>
    <collision>
      <origin
        xyz="0 0 0"
        rpy="0 0 0" />
      <geometry>
        <mesh
          filename="meshes/left_shoulder_pitch_link.STL" />
      </geometry>
    </collision>
  </link>
  <joint
    name="left_shoulder_pitch_joint"
    type="revolute">
    <origin
      xyz="0 0 0"
      rpy="0 0 0" />
    <parent
      link="left_arm_base_link" />
    <child
      link="left_shoulder_pitch_link" />
    <axis
      xyz="0 1 0" />
    <limit
      lower="-2.79"
      upper="2.79"
      effort="95"
      velocity="4.19" />
  </joint>
  <link
    name="left_shoulder_roll_link">
    <inertial>
      <origin
        xyz="-0.0032462 4.0571E-06 -0.091652"
        rpy="0 0 0" />
      <mass
        value="2.1944" />
      <inertia
        ixx="0.019872"
        ixy="-7.0549E-07"
        ixz="0.000639"
        iyy="0.019903"
        iyz="7E-06"
        izz="0.00221" />
    </inertial>
    <visual>
      <origin
        xyz="0 0 0"
        rpy="0 0 0" />
      <geometry>
        <mesh
          filename="meshes/left_shoulder_roll_link.STL" />
      </geometry>
      <material
        name="">
        <color
          rgba="0.75294 0.75294 0.75294 1" />
      </material>
    </visual>
    <!-- <collision>
      <origin
        xyz="0 0 0"
        rpy="0 0 0" />
      <geometry>
        <mesh
          filename="meshes/left_shoulder_roll_link.STL" />
      </geometry>
    </collision> -->
    <collision>
      <origin xyz="0.0 0.0 -0.13" rpy="0 0 0"/>
      <geometry>
        <cylinder radius="0.045" length="0.13"/>
      </geometry>
    </collision>

  </link>
  <joint
    name="left_shoulder_roll_joint"
    type="revolute">
    <origin
      xyz="0 0.133 -0.016"
      rpy="0 0 0" />
    <parent
      link="left_shoulder_pitch_link" />
    <child
      link="left_shoulder_roll_link" />
    <axis
      xyz="1 0 0" />
    <limit
      lower="-0.56"
      upper="2.53"
      effort="95"
      velocity="4.19" />
  </joint>
  <link
    name="left_arm_yaw_link">
    <inertial>
      <origin
        xyz="0.003519 0.00031494 -0.26353"
        rpy="0 0 0" />
      <mass
        value="0.46223" />
      <inertia
        ixx="0.00118"
        ixy="-1E-06"
        ixz="0.000136"
        iyy="0.000868"
        iyz="-7.2691E-07"
        izz="0.000873" />
    </inertial>
    <visual>
      <origin
        xyz="0 0 0"
        rpy="0 0 0" />
      <geometry>
        <mesh
          filename="meshes/left_arm_yaw_link.STL" />
      </geometry>
      <material
        name="">
        <color
          rgba="0.75294 0.75294 0.75294 1" />
      </material>
    </visual>
    <!-- <collision>
      <origin
        xyz="0 0 0"
        rpy="0 0 0" />
      <geometry>
        <mesh
          filename="meshes/left_arm_yaw_link.STL" />
      </geometry>
    </collision> -->
  </link>
  <joint
    name="left_arm_yaw_joint"
    type="revolute">
    <origin
      xyz="0 0 0"
      rpy="0 0 0" />
    <parent
      link="left_shoulder_roll_link" />
    <child
      link="left_arm_yaw_link" />
    <axis
      xyz="0 0 1" />
    <limit
      lower="-4.36"
      upper="1.22"
      effort="95"
      velocity="4.19" />
  </joint>
  <link
    name="left_elbow_pitch_link">
    <inertial>
      <origin
        xyz="-0.0056997 -0.0045023 -0.03171"
        rpy="0 0 0" />
      <mass
        value="1.6034" />
      <inertia
        ixx="0.004377"
        ixy="3.6E-05"
        ixz="-0.00054"
        iyy="0.004463"
        iyz="0.000215"
        izz="0.001464" />
    </inertial>
    <visual>
      <origin
        xyz="0 0 0"
        rpy="0 0 0" />
      <geometry>
        <mesh
          filename="meshes/left_elbow_pitch_link.STL" />
      </geometry>
      <material
        name="">
        <color
          rgba="0.75294 0.75294 0.75294 1" />
      </material>
    </visual>
    <collision>
      <origin
        xyz="0 0 0"
        rpy="0 0 0" />
      <geometry>
        <mesh
          filename="meshes/left_elbow_pitch_link.STL" />
      </geometry>
    </collision>
  </link>
  <joint
    name="left_elbow_pitch_joint"
    type="revolute">
    <origin
      xyz="0.016 0 -0.294"
      rpy="0 0 0" />
    <parent
      link="left_arm_yaw_link" />
    <child
      link="left_elbow_pitch_link" />
    <axis
      xyz="0 1 0" />
    <limit
      lower="-2.36"
      upper="0.7"
      effort="95"
      velocity="4.19" />
  </joint>
  <link
    name="left_elbow_yaw_link">
    <inertial>
      <origin
        xyz="-0.0006503 -0.0023824 0.067809"
        rpy="0 0 0" />
      <mass
        value="0.91938" />
      <inertia
        ixx="0.001459"
        ixy="-1.3E-05"
        ixz="-3E-05"
        iyy="0.001214"
        iyz="8E-06"
        izz="0.00085" />
    </inertial>
    <visual>
      <origin
        xyz="0 0 0"
        rpy="0 0 0" />
      <geometry>
        <mesh
          filename="meshes/left_elbow_yaw_link.STL" />
      </geometry>
      <material
        name="">
        <color
          rgba="0.75294 0.75294 0.75294 1" />
      </material>
    </visual>
    <collision>
      <origin
        xyz="0 0 0"
        rpy="0 0 0" />
      <geometry>
        <mesh
          filename="meshes/left_elbow_yaw_link.STL" />
      </geometry>
    </collision>
  </link>
  <joint
    name="left_elbow_yaw_joint"
    type="revolute">
    <origin
      xyz="-0.016 0 -0.239"
      rpy="0 0 0" />
    <parent
      link="left_elbow_pitch_link" />
    <child
      link="left_elbow_yaw_link" />
    <axis
      xyz="0 0 1" />
    <limit
      lower="-2.79"
      upper="2.79"
      effort="35"
      velocity="4.19" />
  </joint>
  <link
    name="left_wrist_pitch_link">
    <inertial>
      <origin
        xyz="0.0064749 -0.00014717 0.00023213"
        rpy="0 0 0" />
      <mass
        value="0.59056" />
      <inertia
        ixx="0.00033"
        ixy="-2E-06"
        ixz="3E-06"
        iyy="0.000318"
        iyz="-2E-06"
        izz="0.000334" />
    </inertial>
    <visual>
      <origin
        xyz="0 0 0"
        rpy="0 0 0" />
      <geometry>
        <mesh
          filename="meshes/left_wrist_pitch_link.STL" />
      </geometry>
      <material
        name="">
        <color
          rgba="0.75294 0.75294 0.75294 1" />
      </material>
    </visual>
    <!-- <collision>
      <origin
        xyz="0 0 0"
        rpy="0 0 0" />
      <geometry>
        <mesh
          filename="meshes/left_wrist_pitch_link.STL" />
      </geometry>
    </collision> -->
  </link>
  <joint
    name="left_wrist_pitch_joint"
    type="revolute">
    <origin
      xyz="0 0 0"
      rpy="0 0 0" />
    <parent
      link="left_elbow_yaw_link" />
    <child
      link="left_wrist_pitch_link" />
    <axis
      xyz="0 1 0" />
    <limit
      lower="-0.79"
      upper="0.79"
      effort="35"
      velocity="4.19" />
  </joint>
  <link
    name="left_wrist_roll_link">
    <inertial>
      <origin
        xyz="0.015728 8.3393E-10 -0.030005"
        rpy="0 0 0" />
      <mass
        value="0.091311" />
      <inertia
        ixx="6.9E-05"
        ixy="9.3969E-12"
        ixz="-3.1E-05"
        iyy="8.9E-05"
        iyz="3.3842E-13"
        izz="5.2E-05" />
    </inertial>
    <visual>
      <origin
        xyz="0 0 0"
        rpy="0 0 0" />
      <geometry>
        <mesh
          filename="meshes/left_wrist_roll_link.STL" />
      </geometry>
      <material
        name="">
        <color
          rgba="0.75294 0.75294 0.75294 1" />
      </material>
    </visual>
    <!-- <collision>
      <origin
        xyz="0 0 0"
        rpy="0 0 0" />
      <geometry>
        <mesh
          filename="meshes/left_wrist_roll_link.STL" />
      </geometry>
    </collision> -->
    <collision>
      <origin xyz="0.0 0.0 -0.062" rpy="0 0.0 0"/>
      <geometry>
        <cylinder radius="0.025" length="0.015"/>
      </geometry>
    </collision>



  </link>
  <joint
    name="left_wrist_roll_joint"
    type="revolute">
    <origin
      xyz="0 0 0"
      rpy="0 0 0" />
    <parent
      link="left_wrist_pitch_link" />
    <child
      link="left_wrist_roll_link" />
    <axis
      xyz="1 0 0" />
    <limit
      lower="-1.57"
      upper="1.57"
      effort="35"
      velocity="4.19" />
  </joint>
  <link
    name="left_hand_flange_link">
    <inertial>
      <origin
        xyz="0 0 0.0025"
        rpy="0 0 0" />
      <mass
        value="0.000000001" />
      <inertia
        ixx="0.00000000001"
        ixy="0.0000000000"
        ixz="0.0000000000"
        iyy="0.00000000001"
        iyz="0.0000000000"
        izz="0.00000000001" />
    </inertial>
    <visual>
      <origin
        xyz="0 0 0"
        rpy="0 0 0" />
      <geometry>
        <mesh
          filename="meshes/left_hand_flange_link.STL" />
      </geometry>
      <material
        name="">
        <color
          rgba="1 0.54902 0 1" />
      </material>
    </visual>
    <!-- <collision>
      <origin
        xyz="0 0 0"
        rpy="0 0 0" />
      <geometry>
        <mesh
          filename="meshes/left_hand_flange_link.STL" />
      </geometry>
    </collision> -->
  </link>
  <joint
    name="left_hand_flange_joint"
    type="fixed">
    <origin
      xyz="0 0 -0.051"
      rpy="3.1415926 0 0" />
    <parent
      link="left_wrist_roll_link" />
    <child
      link="left_hand_flange_link" />
    <axis
      xyz="0 0 0" />
  </joint>


  <!--   head part    -->
  <joint
    name="neck_base_joint"
    type="fixed">
    <origin
      xyz="0 0 0"
      rpy="0 0 0" />
    <parent
      link="neck_flange_link" />
    <child
      link="neck_base_link" />
    <axis
      xyz="0 0 1" />
    <limit
      lower="0"
      upper="0"
      effort="0"
      velocity="0" />
  </joint>
 <link
    name="neck_base_link">
    <inertial>
      <origin
        xyz="0.00044058 -3.1316E-05 0.020437"
        rpy="0 0 0" />
      <mass
        value="0.54879" />
      <inertia
        ixx="0.000336"
        ixy="1E-06"
        ixz="-1E-06"
        iyy="0.000311"
        iyz="2.377E-07"
        izz="0.000379" />
    </inertial>
    <visual>
      <origin
        xyz="0 0 0"
        rpy="0 0 0" />
      <geometry>
        <mesh
          filename="meshes/neck_base_link.STL" />
      </geometry>
      <material
        name="">
        <color
          rgba="0.75294 0.75294 0.75294 1" />
      </material>
    </visual>
    <!-- <collision>
      <origin
        xyz="0 0 0"
        rpy="0 0 0" />
      <geometry>
        <mesh
          filename="meshes/neck_base_link.STL" />
      </geometry>
    </collision> -->
  </link>
  <link
    name="neck_yaw_link">
    <inertial>
      <origin
        xyz="0.033363 0.00038788 0.085731"
        rpy="0 0 0" />
      <mass
        value="0.57738" />
      <inertia
        ixx="0.000363"
        ixy="1E-06"
        ixz="-9E-05"
        iyy="0.000478"
        iyz="1E-06"
        izz="0.000427" />
    </inertial>
    <visual>
      <origin
        xyz="0 0 0"
        rpy="0 0 0" />
      <geometry>
        <mesh
          filename="meshes/neck_yaw_link.STL" />
      </geometry>
      <material
        name="">
        <color
          rgba="0.75294 0.75294 0.75294 1" />
      </material>
    </visual>
    <!-- <collision>
      <origin
        xyz="0 0 0"
        rpy="0 0 0" />
      <geometry>
        <mesh
          filename="meshes/neck_yaw_link.STL" />
      </geometry>
    </collision> -->
  </link>
  <joint
    name="neck_yaw_joint"
    type="fixed">
    <origin
      xyz="0 0 0"
      rpy="0 0 0" />
    <parent
      link="neck_base_link" />
    <child
      link="neck_yaw_link" />
    <axis
      xyz="0 0 1" />
    <limit
      lower="-1.05"
      upper="1.05"
      effort="35"
      velocity="4.19" />
  </joint>
  <link
    name="neck_pitch_link">
    <inertial>
      <origin
        xyz="-0.018182 0.00091372 0.11159"
        rpy="0 0 0" />
      <mass
        value="1.4643" />
      <inertia
        ixx="0.006914"
        ixy="-2.8E-05"
        ixz="0.001054"
        iyy="0.007955"
        iyz="0.000133"
        izz="0.005899" />
    </inertial>
    <visual>
      <origin
        xyz="0 0 0"
        rpy="0 0 0" />
      <geometry>
        <mesh
          filename="meshes/neck_pitch_link.STL" />
      </geometry>
      <material
        name="">
        <color
          rgba="0.75294 0.75294 0.75294 1" />
      </material>
    </visual>
    <collision>
      <origin
        xyz="0 0 0"
        rpy="0 0 0" />
      <geometry>
        <mesh
          filename="meshes/neck_pitch_link.STL" />
      </geometry>
    </collision>
  </link>
  <joint
    name="neck_pitch_joint"
    type="fixed">
    <origin
      xyz="0.04 0 0.0905"
      rpy="0 0 0" />
    <parent
      link="neck_yaw_link" />
    <child
      link="neck_pitch_link" />
    <axis
      xyz="0 1 0" />
    <limit
      lower="-0.17"
      upper="0.48"
      effort="35"
      velocity="4.19" />
  </joint>
  <link
    name="lidar_link">
    <inertial>
      <origin
        xyz="3.4694E-18 -6.9344E-18 0.0025"
        rpy="0 0 0" />
      <mass
        value="1.375E-08" />
      <inertia
        ixx="5.7292E-14"
        ixy="9.2152E-31"
        ixz="2.068E-29"
        iyy="5.7292E-14"
        iyz="5.8797E-30"
        izz="5.7292E-14" />
    </inertial>
    <visual>
      <origin
        xyz="0 0 0"
        rpy="0 0 0" />
      <geometry>
        <mesh
          filename="meshes/lidar_link.STL" />
      </geometry>
      <material
        name="">
        <color
          rgba="1 0.54902 0 1" />
      </material>
    </visual>
    <!-- <collision>
      <origin
        xyz="0 0 0"
        rpy="0 0 0" />
      <geometry>
        <mesh
          filename="meshes/lidar_link.STL" />
      </geometry>
    </collision> -->
  </link>
  <joint
    name="lidar_joint"
    type="fixed">
    <origin
      xyz="-0.014255 0 0.10675"
      rpy="0 0 0" />
    <parent
      link="neck_pitch_link" />
    <child
      link="lidar_link" />
    <axis
      xyz="0 0 0" />
  </joint>
  <link
    name="mic_link">
    <inertial>
      <origin
        xyz="6.9389E-18 -1.1928E-20 0.0025"
        rpy="0 0 0" />
      <mass
        value="1.375E-08" />
      <inertia
        ixx="5.7292E-14"
        ixy="8.366E-31"
        ixz="5.1463E-30"
        iyy="5.7292E-14"
        iyz="3.6879E-30"
        izz="5.7292E-14" />
    </inertial>
    <visual>
      <origin
        xyz="0 0 0"
        rpy="0 0 0" />
      <geometry>
        <mesh
          filename="meshes/mic_link.STL" />
      </geometry>
      <material
        name="">
        <color
          rgba="1 0.54902 0 1" />
      </material>
    </visual>
    <!-- <collision>
      <origin
        xyz="0 0 0"
        rpy="0 0 0" />
      <geometry>
        <mesh
          filename="meshes/mic_link.STL" />
      </geometry>
    </collision> -->
  </link>
  <joint
    name="mic_joint"
    type="fixed">
    <origin
      xyz="-0.014255 0 0.18884"
      rpy="0 0 0" />
    <parent
      link="neck_pitch_link" />
    <child
      link="mic_link" />
    <axis
      xyz="0 0 0" />
  </joint>
  <link
    name="stereo_link">
    <inertial>
      <origin
        xyz="1.3878E-17 -3.5421E-18 0.0025"
        rpy="0 0 0" />
      <mass
        value="1.375E-08" />
      <inertia
        ixx="5.7292E-14"
        ixy="-1.9198E-30"
        ixz="6.3109E-29"
        iyy="5.7292E-14"
        iyz="2.5778E-31"
        izz="5.7292E-14" />
    </inertial>
    <visual>
      <origin
        xyz="0 0 0"
        rpy="0 0 0" />
      <geometry>
        <mesh
          filename="meshes/stereo_link.STL" />
      </geometry>
      <material
        name="">
        <color
          rgba="1 0.54902 0 1" />
      </material>
    </visual>
    <!-- <collision>
      <origin
        xyz="0 0 0"
        rpy="0 0 0" />
      <geometry>
        <mesh
          filename="meshes/stereo_link.STL" />
      </geometry>
    </collision> -->
  </link>
  <joint
    name="stereo_joint"
    type="fixed">
    <origin
      xyz="0.059712 0 0.13282"
      rpy="0 0.5236 0" />
    <parent
      link="neck_pitch_link" />
    <child
      link="stereo_link" />
    <axis
      xyz="0 0 0" />
  </joint>









 
 <!--  right_arm part    -->
  <joint
    name="right_arm_base_joint"
    type="fixed">
    <origin
      xyz="0 0 0"
      rpy="0 0 0" />
    <parent
      link="right_arm_flange_link" />
    <child
      link="right_arm_base_link" />
    <axis
      xyz="0 0 1" />
    <limit
      lower="0"
      upper="0"
      effort="0"
      velocity="0" />
  </joint>
    <link
    name="right_arm_base_link">
    <inertial>
      <origin
        xyz="-4.1581E-05 -0.023631 3.5535E-05"
        rpy="0 0 0" />
      <mass
        value="0.99112" />
      <inertia
        ixx="0.000802"
        ixy="1E-06"
        ixz="1E-06"
        iyy="0.000861"
        iyz="3E-06"
        izz="0.000807" />
    </inertial>
    <visual>
      <origin
        xyz="0 0 0"
        rpy="0 0 0" />
      <geometry>
        <mesh
          filename="meshes/right_arm_base_link.STL" />
      </geometry>
      <material
        name="">
        <color
          rgba="0.75294 0.75294 0.75294 1" />
      </material>
    </visual>
    <!-- <collision>
      <origin
        xyz="0 0 0"
        rpy="0 0 0" />
      <geometry>
        <mesh
          filename="meshes/right_arm_base_link.STL" />
      </geometry>
    </collision> -->
  </link>
  <link
    name="right_shoulder_pitch_link">
    <inertial>
      <origin
        xyz="-0.00013365 -0.10261 -0.0035426"
        rpy="0 0 0" />
      <mass
        value="0.46431" />
      <inertia
        ixx="0.000868"
        ixy="7.2509E-07"
        ixz="7.5292E-07"
        iyy="0.000876"
        iyz="-0.000137"
        izz="0.001185" />
    </inertial>
    <visual>
      <origin
        xyz="0 0 0"
        rpy="0 0 0" />
      <geometry>
        <mesh
          filename="meshes/right_shoulder_pitch_link.STL" />
      </geometry>
      <material
        name="">
        <color
          rgba="0.75294 0.75294 0.75294 1" />
      </material>
    </visual>
    <collision>
      <origin
        xyz="0 0 0"
        rpy="0 0 0" />
      <geometry>
        <mesh
          filename="meshes/right_shoulder_pitch_link.STL" />
      </geometry>
    </collision>
  </link>
  <joint
    name="right_shoulder_pitch_joint"
    type="revolute">
    <origin
      xyz="0 0 0"
      rpy="0 0 0" />
    <parent
      link="right_arm_base_link" />
    <child
      link="right_shoulder_pitch_link" />
    <axis
      xyz="0 1 0" />
    <limit
      lower="-2.79"
      upper="2.79"
      effort="95"
      velocity="4.19" />
  </joint>
  <link
    name="right_shoulder_roll_link">
    <inertial>
      <origin
        xyz="0.0032462 -4.0571E-06 -0.091652"
        rpy="0 0 0" />
      <mass
        value="2.1944" />
      <inertia
        ixx="0.019872"
        ixy="-7.0549E-07"
        ixz="-0.000639"
        iyy="0.019903"
        iyz="-7E-06"
        izz="0.00221" />
    </inertial>
    <visual>
      <origin
        xyz="0 0 0"
        rpy="0 0 0" />
      <geometry>
        <mesh
          filename="meshes/right_shoulder_roll_link.STL" />
      </geometry>
      <material
        name="">
        <color
          rgba="0.75294 0.75294 0.75294 1" />
      </material>
    </visual>
    <!-- <collision>
      <origin
        xyz="0 0 0"
        rpy="0 0 0" />
      <geometry>
        <mesh
          filename="meshes/right_shoulder_roll_link.STL" />
      </geometry>
    </collision> -->
    <collision>
      <origin xyz="0.0 0.0 -0.13" rpy="0 0 0"/>
      <geometry>
        <cylinder radius="0.045" length="0.13"/>
      </geometry>
    </collision>
  </link>
  <joint
    name="right_shoulder_roll_joint"
    type="revolute">
    <origin
      xyz="0 -0.133 -0.016"
      rpy="0 0 0" />
    <parent
      link="right_shoulder_pitch_link" />
    <child
      link="right_shoulder_roll_link" />
    <axis
      xyz="1 0 0" />
    <limit
      lower="-2.53"
      upper="0.56"
      effort="95"
      velocity="4.19" />
  </joint>
  <link
    name="right_arm_yaw_link">
    <inertial>
      <origin
        xyz="0.003519 0.00031494 -0.26353"
        rpy="0 0 0" />
      <mass
        value="0.46223" />
      <inertia
        ixx="0.00118"
        ixy="-1E-06"
        ixz="0.000136"
        iyy="0.000868"
        iyz="-7.2693E-07"
        izz="0.000873" />
    </inertial>
    <visual>
      <origin
        xyz="0 0 0"
        rpy="0 0 0" />
      <geometry>
        <mesh
          filename="meshes/right_arm_yaw_link.STL" />
      </geometry>
      <material
        name="">
        <color
          rgba="0.75294 0.75294 0.75294 1" />
      </material>
    </visual>
    <!-- <collision>
      <origin
        xyz="0 0 0"
        rpy="0 0 0" />
      <geometry>
        <mesh
          filename="meshes/right_arm_yaw_link.STL" />
      </geometry>
    </collision> -->
  </link>
  <joint
    name="right_arm_yaw_joint"
    type="revolute">
    <origin
      xyz="0 0 0"
      rpy="0 0 0" />
    <parent
      link="right_shoulder_roll_link" />
    <child
      link="right_arm_yaw_link" />
    <axis
      xyz="0 0 1" />
    <limit
      lower="-1.22"
      upper="4.36"
      effort="95"
      velocity="4.19" />
  </joint>
  <link
    name="right_elbow_pitch_link">
    <inertial>
      <origin
        xyz="-0.0056997 -0.0045023 -0.03171"
        rpy="0 0 0" />
      <mass
        value="1.6034" />
      <inertia
        ixx="0.004377"
        ixy="3.6E-05"
        ixz="-0.00054"
        iyy="0.004463"
        iyz="0.000215"
        izz="0.001464" />
    </inertial>
    <visual>
      <origin
        xyz="0 0 0"
        rpy="0 0 0" />
      <geometry>
        <mesh
          filename="meshes/right_elbow_pitch_link.STL" />
      </geometry>
      <material
        name="">
        <color
          rgba="0.75294 0.75294 0.75294 1" />
      </material>
    </visual>
    <collision>
      <origin
        xyz="0 0 0"
        rpy="0 0 0" />
      <geometry>
        <mesh
          filename="meshes/right_elbow_pitch_link.STL" />
      </geometry>
    </collision>
  </link>
  <joint
    name="right_elbow_pitch_joint"
    type="revolute">
    <origin
      xyz="0.016 0 -0.294"
      rpy="0 0 0" />
    <parent
      link="right_arm_yaw_link" />
    <child
      link="right_elbow_pitch_link" />
    <axis
      xyz="0 1 0" />
    <limit
      lower="-2.36"
      upper="0.7"
      effort="95"
      velocity="4.19" />
  </joint>
  <link
    name="right_elbow_yaw_link">
    <inertial>
      <origin
        xyz="-0.0006503 -0.0023824 0.067809"
        rpy="0 0 0" />
      <mass
        value="0.91938" />
      <inertia
        ixx="0.001459"
        ixy="-1.3E-05"
        ixz="-3E-05"
        iyy="0.001214"
        iyz="8E-06"
        izz="0.00085" />
    </inertial>
    <visual>
      <origin
        xyz="0 0 0"
        rpy="0 0 0" />
      <geometry>
        <mesh
          filename="meshes/right_elbow_yaw_link.STL" />
      </geometry>
      <material
        name="">
        <color
          rgba="0.75294 0.75294 0.75294 1" />
      </material>
    </visual>
    <collision>
      <origin
        xyz="0 0 0"
        rpy="0 0 0" />
      <geometry>
        <mesh
          filename="meshes/right_elbow_yaw_link.STL" />
      </geometry>
    </collision>
  </link>
  <joint
    name="right_elbow_yaw_joint"
    type="revolute">
    <origin
      xyz="-0.016 0 -0.239"
      rpy="0 0 0" />
    <parent
      link="right_elbow_pitch_link" />
    <child
      link="right_elbow_yaw_link" />
    <axis
      xyz="0 0 1" />
    <limit
      lower="-2.79"
      upper="2.79"
      effort="35"
      velocity="4.19" />
  </joint>
  <link
    name="right_wrist_pitch_link">
    <inertial>
      <origin
        xyz="0.0064749 -0.00014717 0.00023213"
        rpy="0 0 0" />
      <mass
        value="0.59056" />
      <inertia
        ixx="0.00033"
        ixy="-2E-06"
        ixz="3E-06"
        iyy="0.000318"
        iyz="-2E-06"
        izz="0.000334" />
    </inertial>
    <visual>
      <origin
        xyz="0 0 0"
        rpy="0 0 0" />
      <geometry>
        <mesh
          filename="meshes/right_wrist_pitch_link.STL" />
      </geometry>
      <material
        name="">
        <color
          rgba="0.75294 0.75294 0.75294 1" />
      </material>
    </visual>
    <!-- <collision>
      <origin
        xyz="0 0 0"
        rpy="0 0 0" />
      <geometry>
        <mesh
          filename="meshes/right_wrist_pitch_link.STL" />
      </geometry>
    </collision> -->
  </link>
  <joint
    name="right_wrist_pitch_joint"
    type="revolute">
    <origin
      xyz="0 0 0"
      rpy="0 0 0" />
    <parent
      link="right_elbow_yaw_link" />
    <child
      link="right_wrist_pitch_link" />
    <axis
      xyz="0 1 0" />
    <limit
      lower="-0.79"
      upper="0.79"
      effort="35"
      velocity="4.19" />
  </joint>
  <link
    name="right_wrist_roll_link">
    <inertial>
      <origin
        xyz="0.015728 8.3393E-10 -0.030005"
        rpy="0 0 0" />
      <mass
        value="0.091311" />
      <inertia
        ixx="6.9E-05"
        ixy="9.3969E-12"
        ixz="-3.1E-05"
        iyy="8.9E-05"
        iyz="3.3842E-13"
        izz="5.2E-05" />
    </inertial>
    <visual>
      <origin
        xyz="0 0 0"
        rpy="0 0 0" />
      <geometry>
        <mesh
          filename="meshes/right_wrist_roll_link.STL" />
      </geometry>
      <material
        name="">
        <color
          rgba="0.75294 0.75294 0.75294 1" />
      </material>
    </visual>
    <!-- <collision>
      <origin
        xyz="0 0 0"
        rpy="0 0 0" />
      <geometry>
        <mesh
          filename="meshes/right_wrist_roll_link.STL" />
      </geometry>
    </collision> -->
    <collision>
      <origin xyz="0.0 0.0 -0.062" rpy="0 0.0 0"/>
      <geometry>
        <cylinder radius="0.025" length="0.015"/>
      </geometry>
    </collision>


  </link>
  <joint
    name="right_wrist_roll_joint"
    type="revolute">
    <origin
      xyz="0 0 0"
      rpy="0 0 0" />
    <parent
      link="right_wrist_pitch_link" />
    <child
      link="right_wrist_roll_link" />
    <axis
      xyz="1 0 0" />
    <limit
      lower="-1.57"
      upper="1.57"
      effort="35"
      velocity="4.19" />
  </joint>
  <link
    name="right_hand_flange_link">
    <inertial>
      <origin
        xyz="0 0 0.0025"
        rpy="0 0 0" />
      <mass
        value="0.000000001" />
      <inertia
        ixx="0.00000000001"
        ixy="0.0000000000"
        ixz="0.0000000000"
        iyy="0.00000000001"
        iyz="0.0000000000"
        izz="0.00000000001" />
    </inertial>
    <visual>
      <origin
        xyz="0 0 0"
        rpy="0 0 0" />
      <geometry>
        <mesh
          filename="meshes/right_hand_flange_link.STL" />
      </geometry>
      <material
        name="">
        <color
          rgba="1 0.54902 0 1" />
      </material>
    </visual>
    <!-- <collision>
      <origin
        xyz="0 0 0"
        rpy="0 0 0" />
      <geometry>
        <mesh
          filename="meshes/right_hand_flange_link.STL" />
      </geometry>
    </collision> -->
  </link>
  <joint
    name="right_hand_flange_joint"
    type="fixed">
    <origin
      xyz="0 0 -0.051"
      rpy="3.1415926 0 0" />
    <parent
      link="right_wrist_roll_link" />
    <child
      link="right_hand_flange_link" />
    <axis
      xyz="0 0 0" />
  </joint>
</robot>
